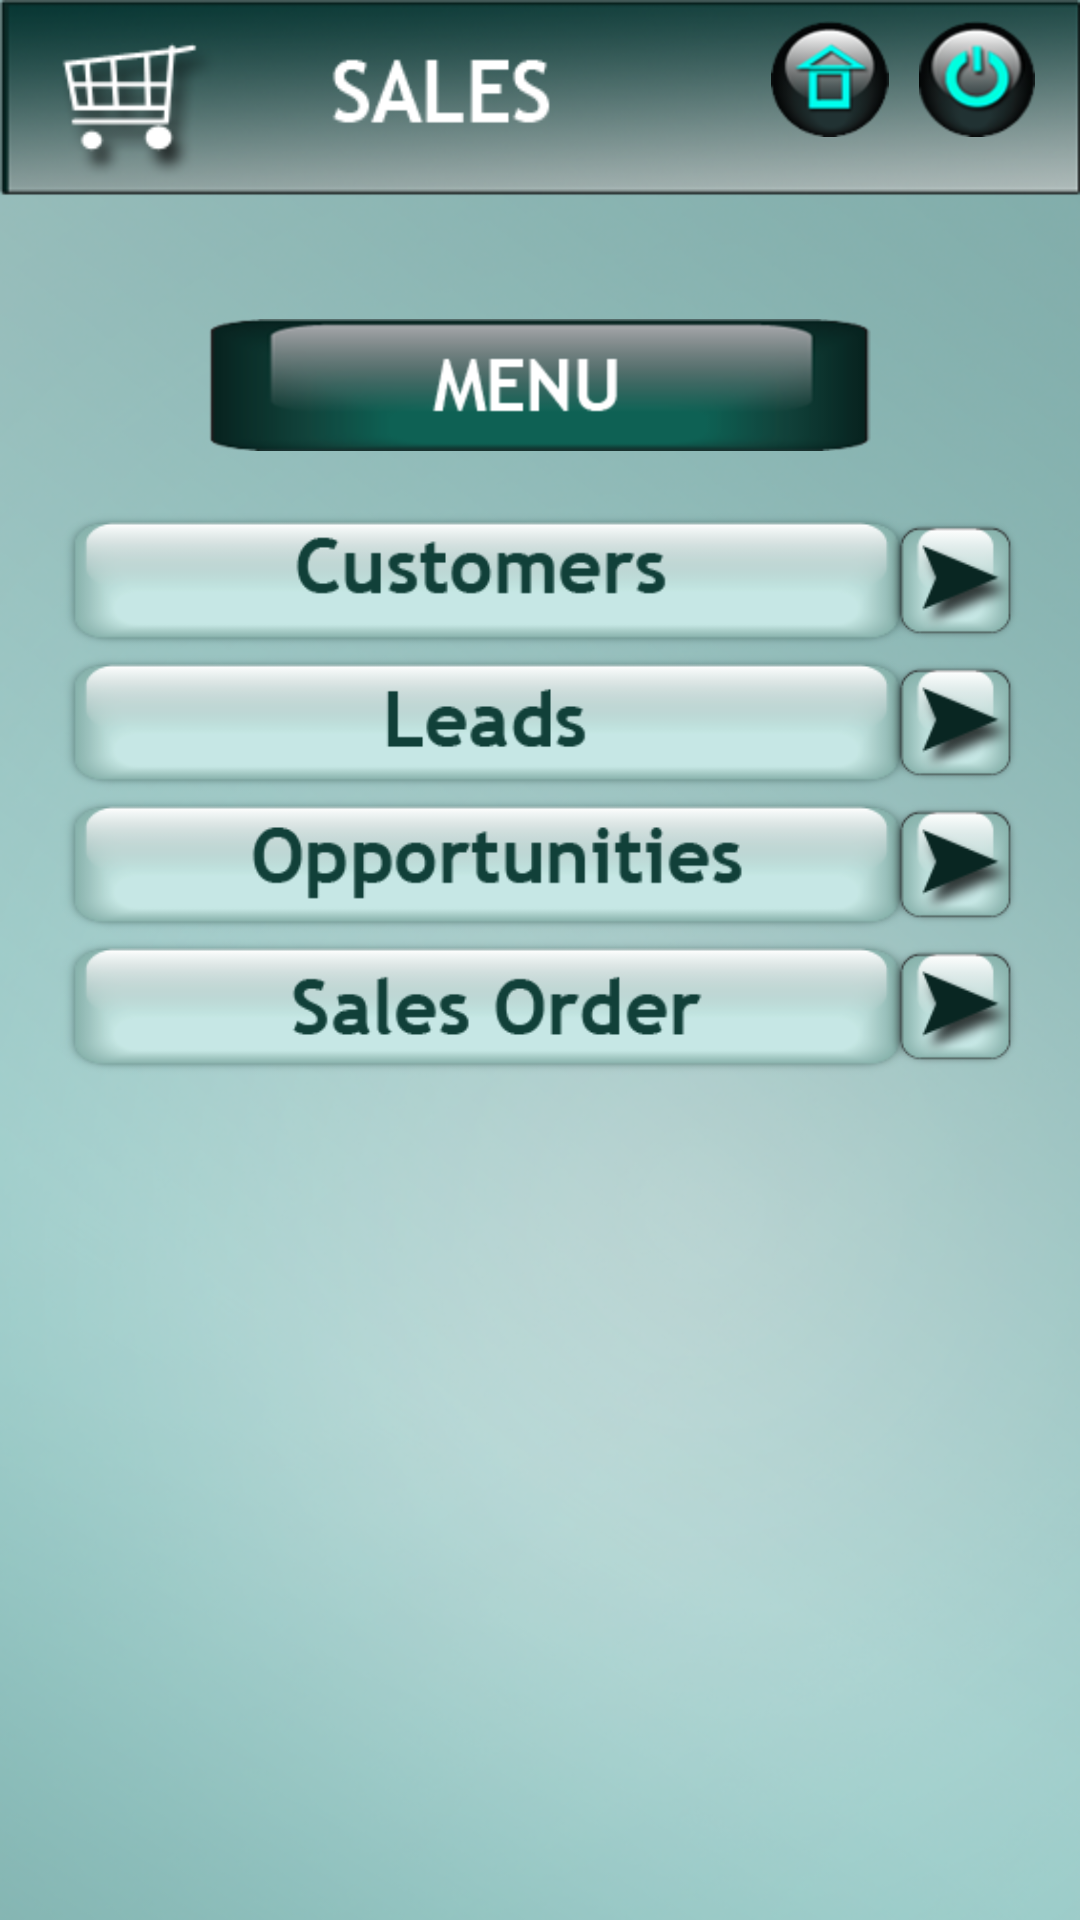

Screen size 1080w x 1920h. Icon name, then its center in pixels as point (x, y):
Home: point (830, 79)
